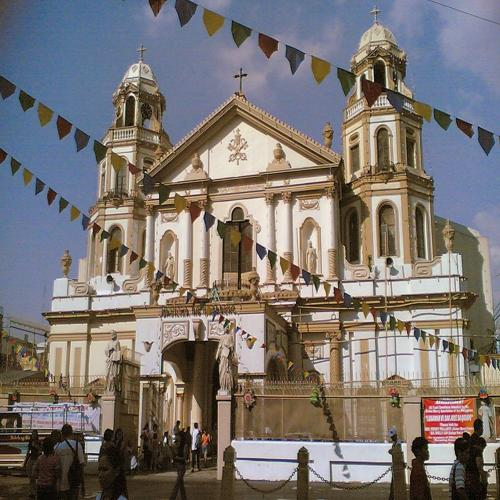Quiapo Church: (44, 17, 453, 464)
